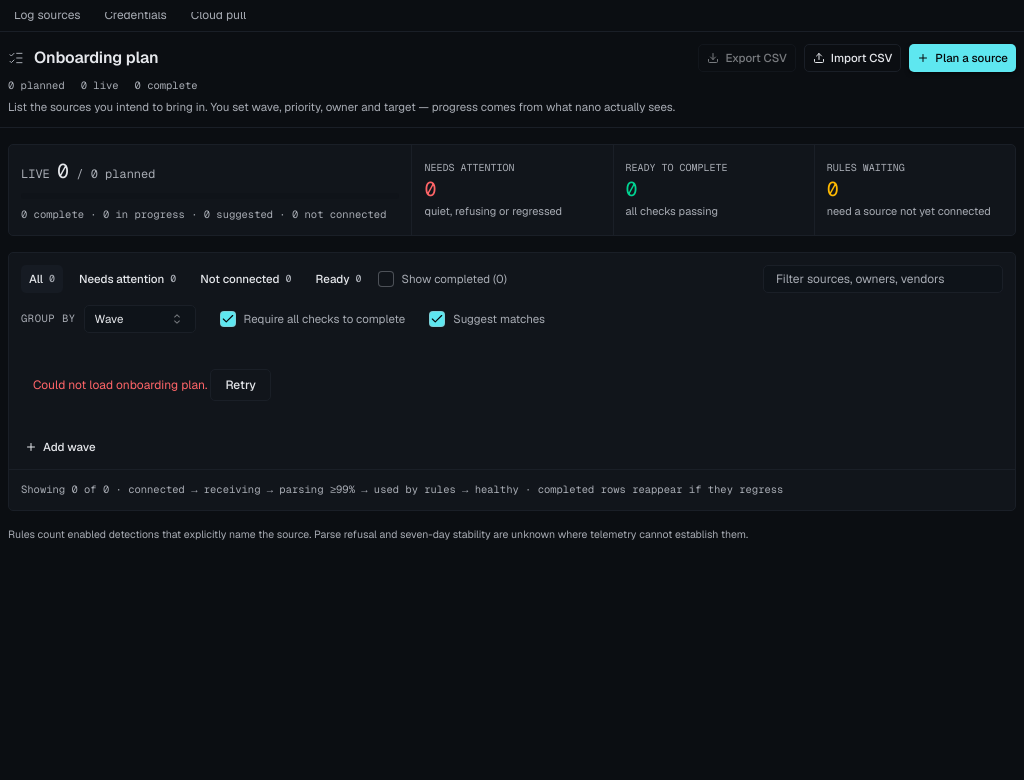
Test: shows an API error and lets the user retry successfully
Check: the message "Could not load onboarding plan. Retry" is shown, box [33, 369, 271, 401]
Check: the text "No sources planned yet" is not shown
Click the button "Retry" at coordinates (241, 385), box [210, 369, 271, 401]
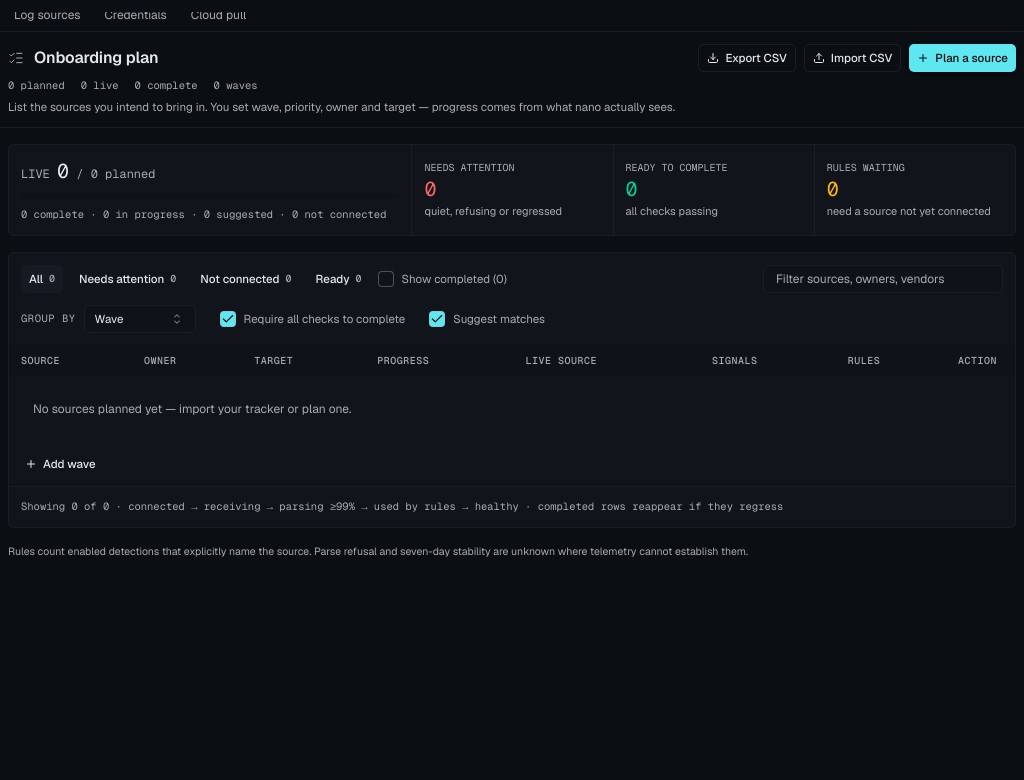
Check: the text "No sources planned yet — import your tracker or plan one." is shown, box [33, 401, 351, 417]
